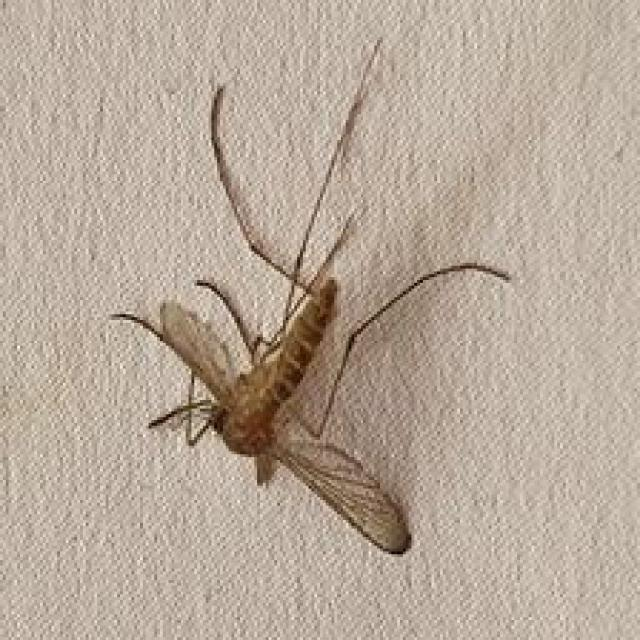Culex: (109, 36, 512, 556)
